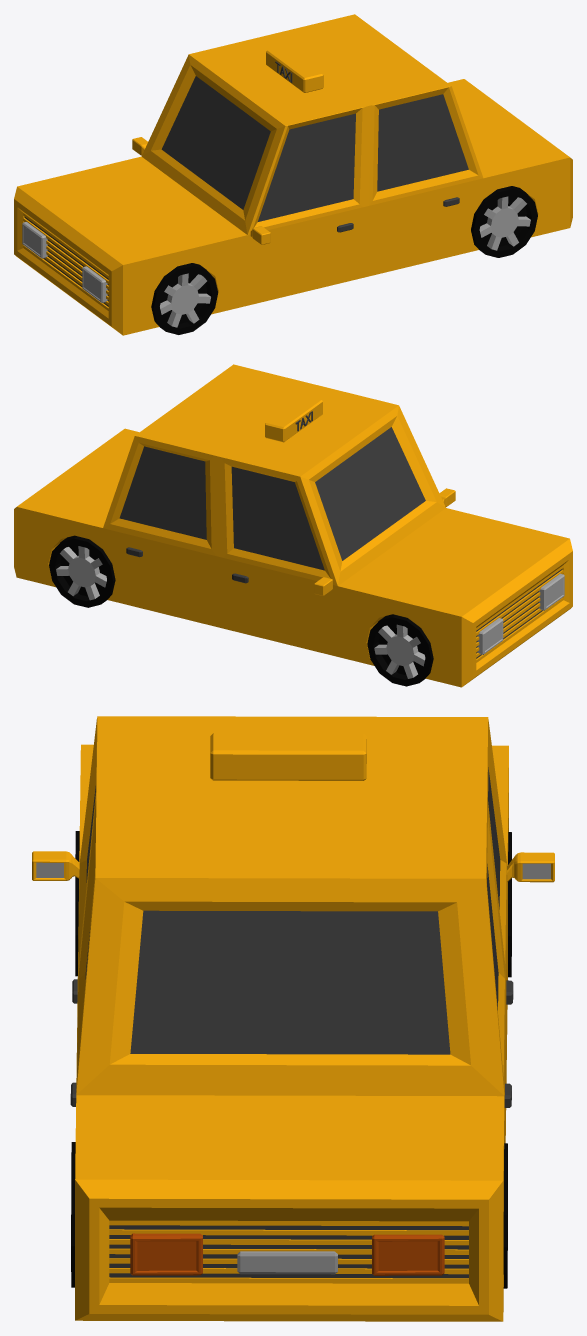
The model's file is body_3.glb.
3 views of the same model, one above another, from view 1: azimuth 30°, elevation 25°; view 2: azimuth 150°, elevation 25°; view 3: azimuth 270°, elevation 25° (orthographic). The views are drawn at different scales.
Visible parts, largest first — view 1: Body_BODY.016_0; view 2: Body_BODY.016_0; view 3: Body_BODY.016_0.
Part boxes in pixels (bbox=[...]): Body_BODY.016_0: bbox=[14, 14, 572, 335]; Body_BODY.016_0: bbox=[14, 364, 572, 687]; Body_BODY.016_0: bbox=[32, 716, 554, 1321].
Bounding box in the file's own units: 0.5194 × 0.2074 × 0.255.
1 material, 1 textured.
